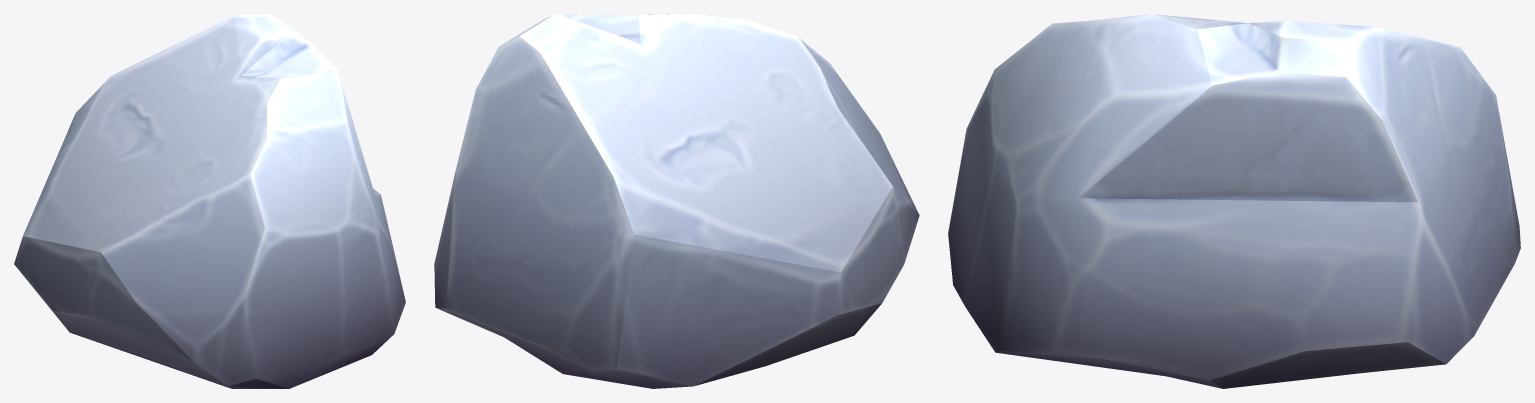
File: obj_stone10.gltf
The picture shows the model from 3 angles, left to right: view 1: azimuth 30°, elevation 25°; view 2: azimuth 150°, elevation 25°; view 3: azimuth 270°, elevation 25°; orthographic projection. The views are drawn at different scales.
Parts seen in each view (by area): view 1: obj_stone10; view 2: obj_stone10; view 3: obj_stone10.
Part boxes in pixels (x1,y1,x2,y2): obj_stone10: [14, 14, 405, 388]; obj_stone10: [434, 14, 919, 388]; obj_stone10: [948, 14, 1520, 388].
Size of what is drawn, in the model's own units: 1.37 by 0.9897 by 1.55.
Materials: 1 (1 with a texture image).
